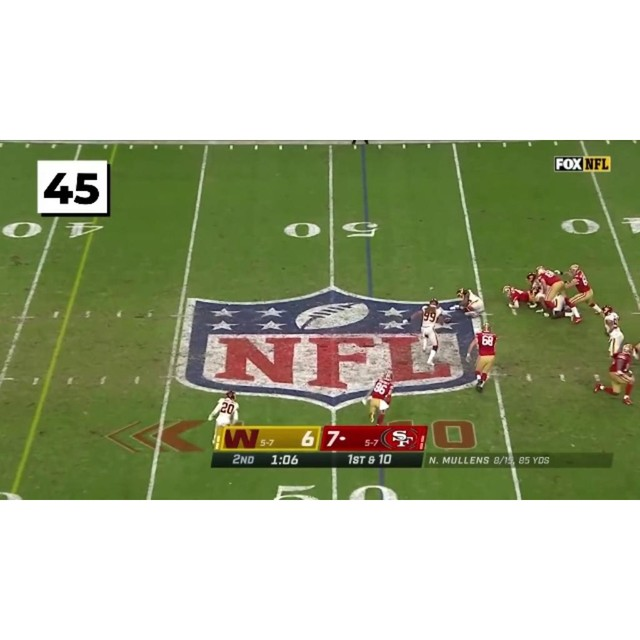american-football-player: (594, 343, 637, 405), (466, 322, 497, 392), (418, 297, 448, 368), (566, 263, 602, 319), (208, 390, 240, 449), (367, 371, 394, 426), (599, 304, 625, 358), (455, 287, 486, 319), (502, 284, 534, 313)
